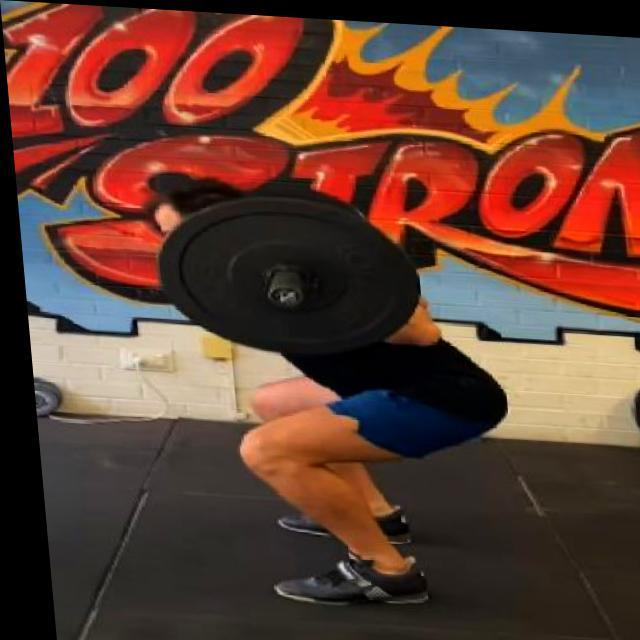barbell: (146, 186, 425, 365)
